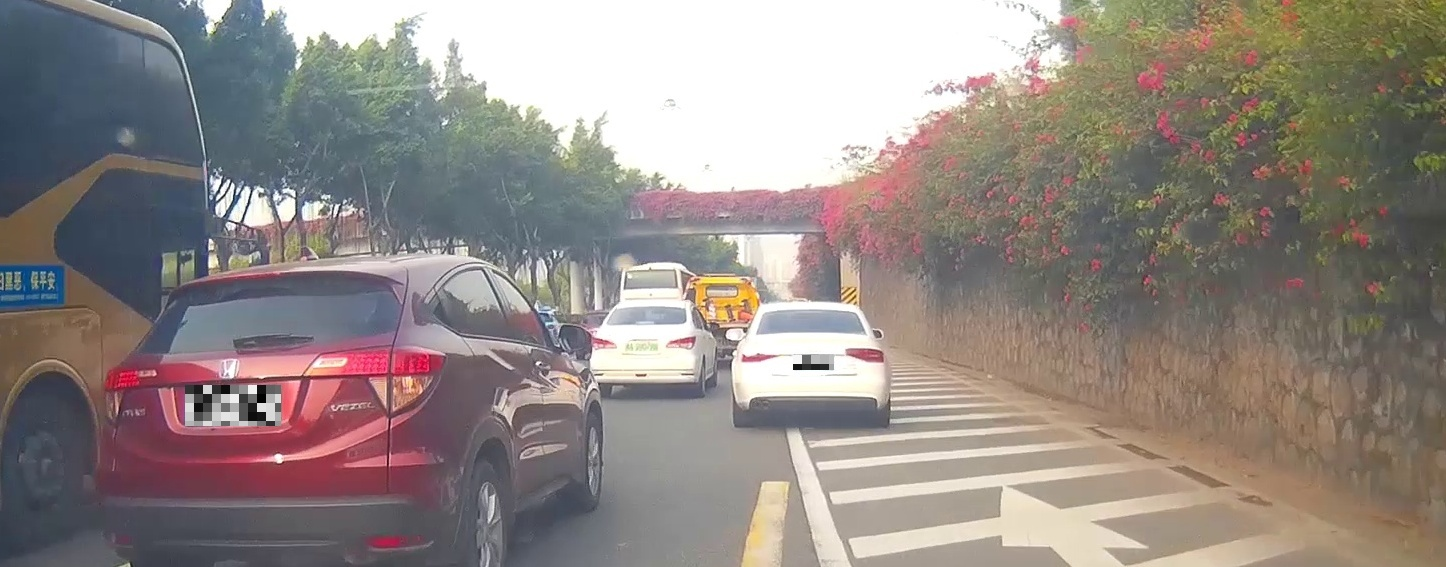L_light: (102, 365, 143, 429), (740, 351, 782, 363), (591, 337, 617, 349)
R_light: (301, 344, 446, 419), (845, 348, 884, 363), (666, 336, 696, 350)
T_light: (233, 272, 279, 281), (795, 310, 823, 313), (636, 321, 654, 325)
day-left: (731, 301, 891, 427)
day-no: (95, 253, 451, 567), (590, 299, 698, 397)
plate_1: (185, 385, 281, 426)
plate_2: (793, 355, 834, 370)
